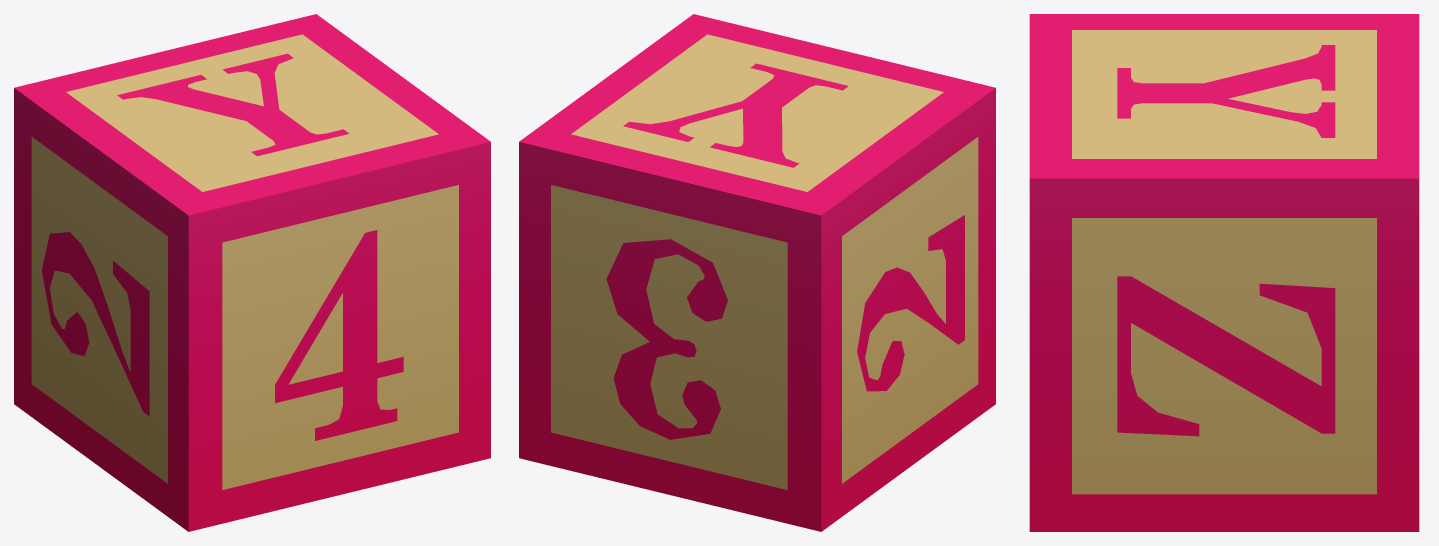
3 renders of one model, left to right at view 1: azimuth 30°, elevation 25°; view 2: azimuth 150°, elevation 25°; view 3: azimuth 270°, elevation 25°, orthographic. The views are drawn at different scales.
Parts seen in each view (by area): view 1: cube_YZ1234; view 2: cube_YZ1234; view 3: cube_YZ1234.
Part boxes in pixels (x1,y1,x2,y2): cube_YZ1234: (14, 14, 490, 531); cube_YZ1234: (519, 14, 995, 531); cube_YZ1234: (1029, 14, 1419, 531).
Size of the model in its own units: 6.53 by 6.53 by 6.53.
